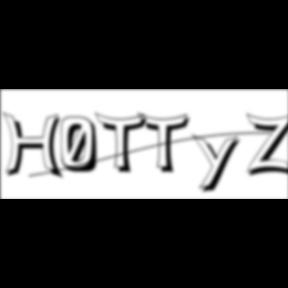0: (60, 115, 106, 174)
H: (2, 112, 68, 182)
T: (95, 112, 153, 176), (138, 112, 196, 176)
y: (192, 132, 246, 196)
